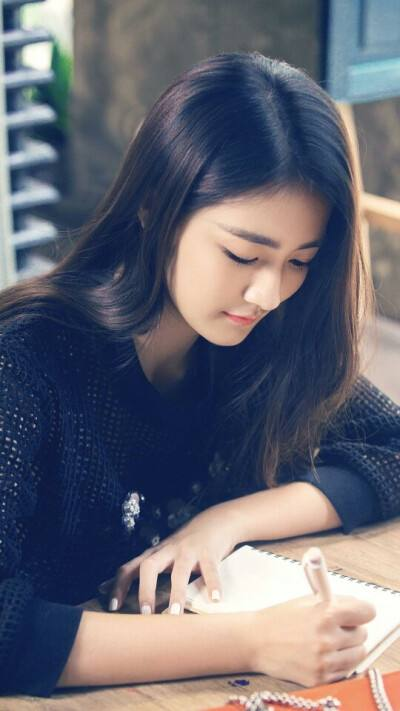person: (30, 55, 369, 621)
